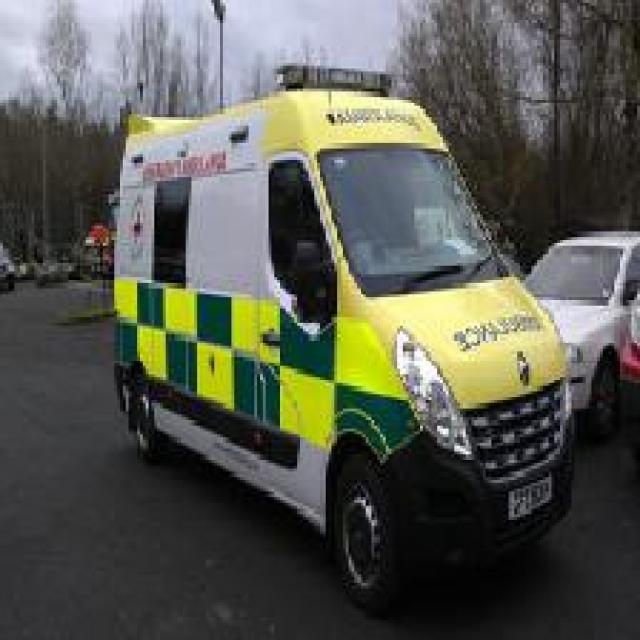emergency: (108, 64, 580, 616)
